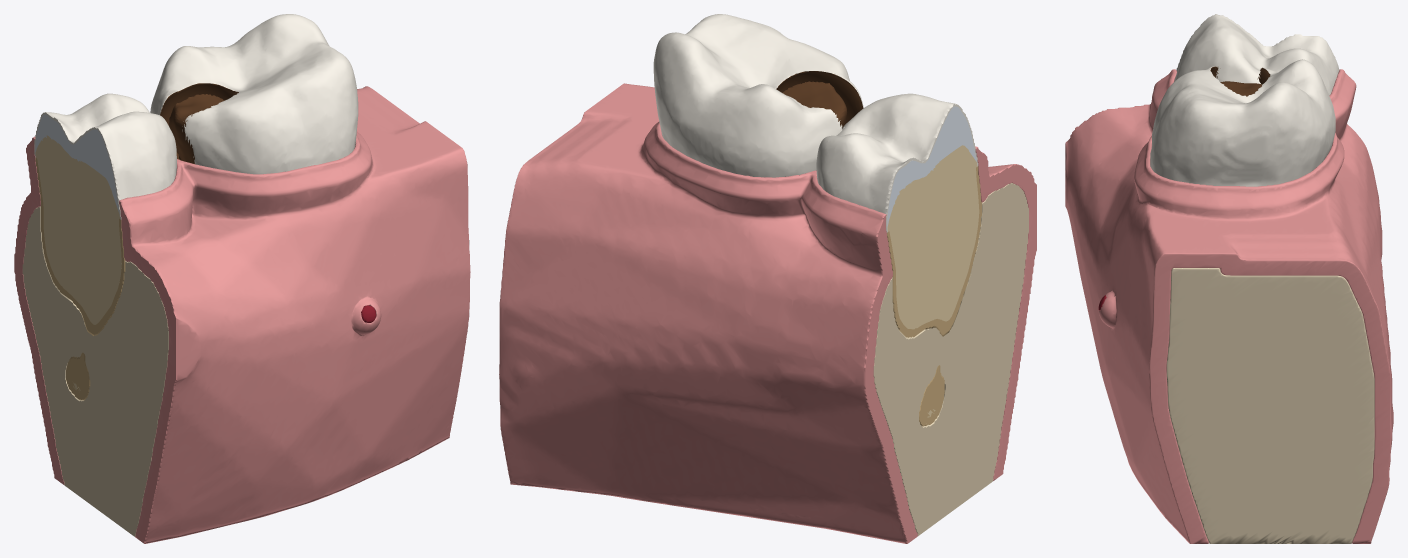
The model's file is abscess-whole.glb.
3 views of the same model, side by side, from view 1: azimuth 30°, elevation 25°; view 2: azimuth 150°, elevation 25°; view 3: azimuth 270°, elevation 25° (orthographic). The views are drawn at different scales.
Visible parts, largest first — view 1: gum, teeth (×2), bone, decay; view 2: gum, teeth (×2), bone, decay; view 3: gum, bone, teeth (×2).
Part boxes in pixels (x1,y1,x2,y2): gum: (14,86,470,543); teeth (×2): (34,14,358,400); bone: (22,206,168,536); decay: (169,94,224,163); gum: (499,83,1036,543); teeth (×2): (653,14,981,426); bone: (873,183,1028,535); decay: (782,81,847,127); gum: (1065,69,1393,543); bone: (1166,268,1374,543); teeth (×2): (1150,14,1339,186).
Bounding box in the file's own units: 23.45 × 27.66 × 20.36.
